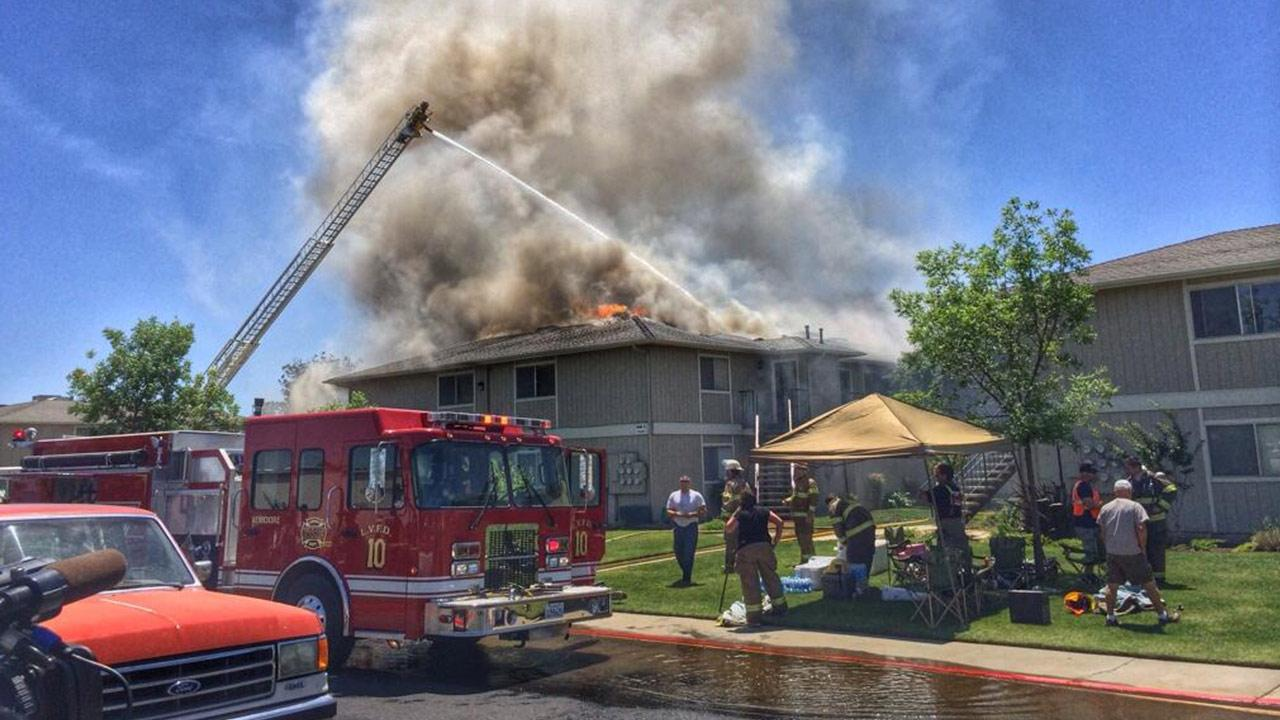fire: (591, 302, 649, 319)
smoke: (310, 0, 909, 354), (285, 356, 349, 414)
